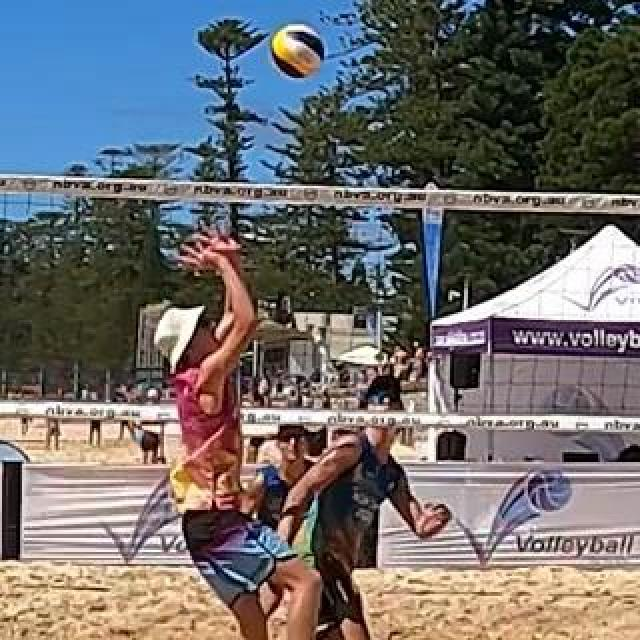volleyball: (273, 27, 325, 79)
